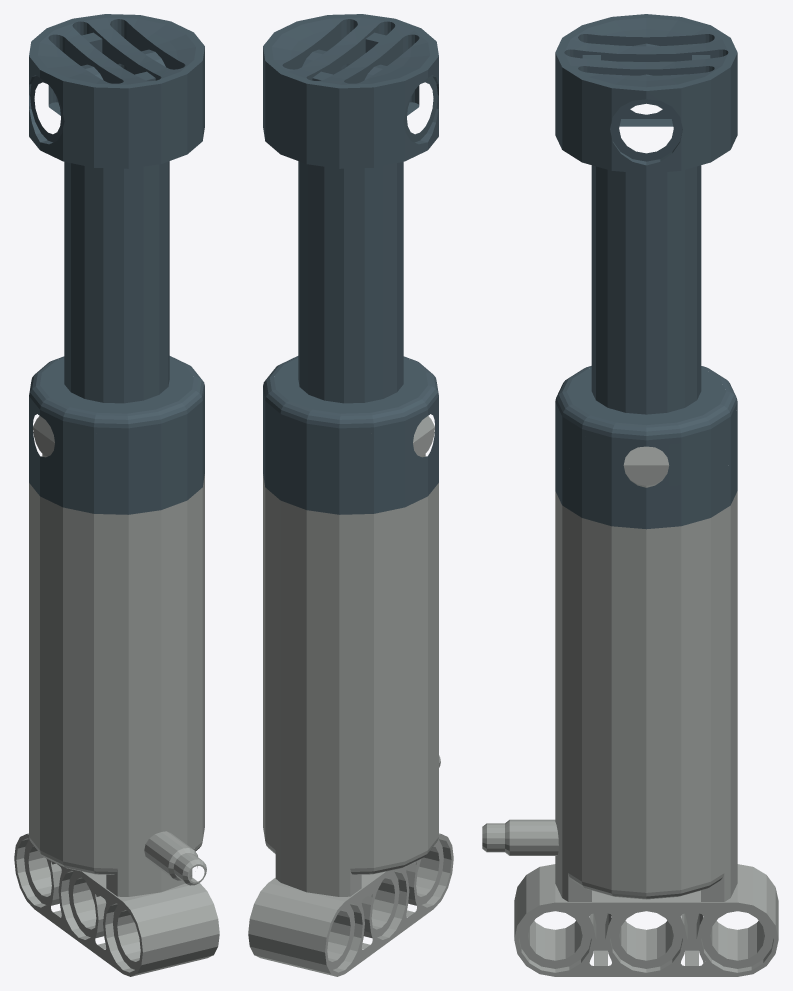
3 renders of one model, left to right at view 1: azimuth 30°, elevation 25°; view 2: azimuth 150°, elevation 25°; view 3: azimuth 270°, elevation 25°, orthographic. The views are drawn at different scales.
Parts seen in each view (by area): view 1: world; view 2: world; view 3: world.
Boxes of the visible parts, box(x1,y1,x2,y2) form: world: box(14, 14, 219, 976); world: box(248, 14, 453, 976); world: box(482, 14, 778, 976).
Bounding box in the file's own units: 0.016 × 0.0876 × 0.026.
